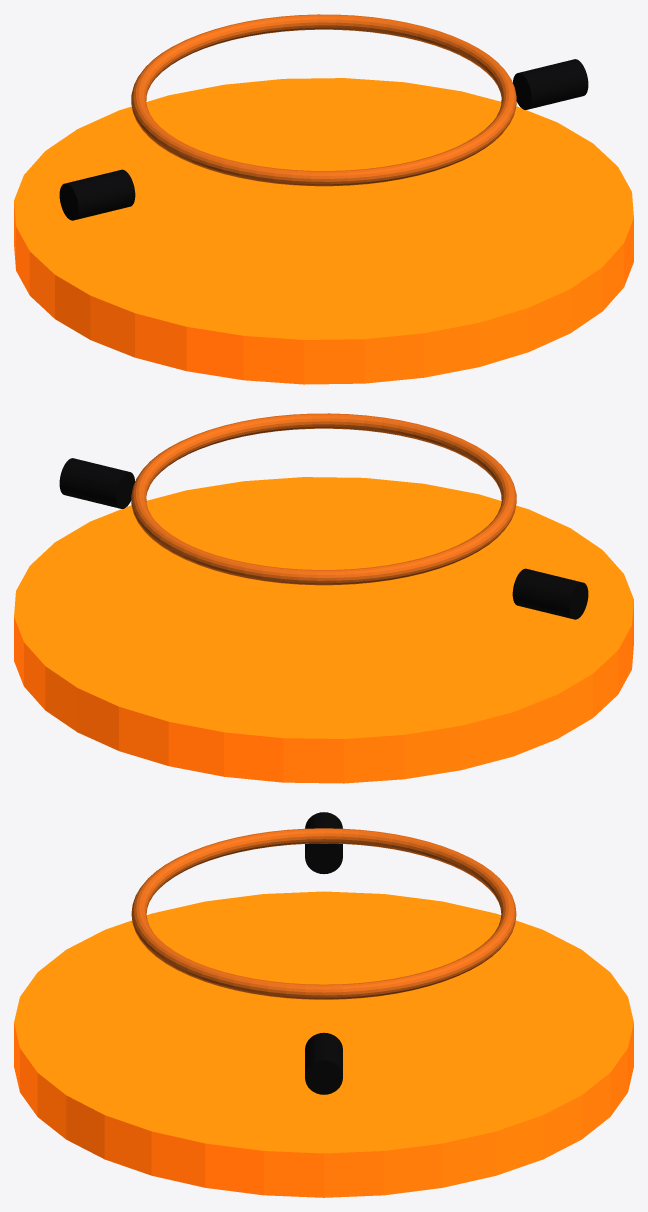
File: fitness_jump_rope.dae
3 views of the same model, one above another, from view 1: azimuth 30°, elevation 25°; view 2: azimuth 150°, elevation 25°; view 3: azimuth 270°, elevation 25° (orthographic).
Parts seen in each view (by area): view 1: 02_18_Popular_Fitness_Jump_Rope_ROOT_base, 02_18_Popular_Fitness_Jump_Rope_part_01, 02_18_Popular_Fitness_Jump_Rope_part_02, 02_18_Popular_Fitness_Jump_Rope_part_03; view 2: 02_18_Popular_Fitness_Jump_Rope_ROOT_base, 02_18_Popular_Fitness_Jump_Rope_part_01, 02_18_Popular_Fitness_Jump_Rope_part_02, 02_18_Popular_Fitness_Jump_Rope_part_03; view 3: 02_18_Popular_Fitness_Jump_Rope_ROOT_base, 02_18_Popular_Fitness_Jump_Rope_part_01, 02_18_Popular_Fitness_Jump_Rope_part_03, 02_18_Popular_Fitness_Jump_Rope_part_02.
Part boxes in pixels (x1,y1,x2,y2): 02_18_Popular_Fitness_Jump_Rope_ROOT_base: (14, 78, 633, 384); 02_18_Popular_Fitness_Jump_Rope_part_01: (131, 14, 516, 186); 02_18_Popular_Fitness_Jump_Rope_part_02: (59, 169, 135, 220); 02_18_Popular_Fitness_Jump_Rope_part_03: (513, 59, 588, 109); 02_18_Popular_Fitness_Jump_Rope_ROOT_base: (14, 477, 633, 783); 02_18_Popular_Fitness_Jump_Rope_part_01: (131, 413, 516, 585); 02_18_Popular_Fitness_Jump_Rope_part_02: (512, 568, 588, 619); 02_18_Popular_Fitness_Jump_Rope_part_03: (59, 458, 134, 508); 02_18_Popular_Fitness_Jump_Rope_ROOT_base: (14, 891, 633, 1197); 02_18_Popular_Fitness_Jump_Rope_part_01: (131, 828, 516, 999); 02_18_Popular_Fitness_Jump_Rope_part_03: (305, 1032, 342, 1094); 02_18_Popular_Fitness_Jump_Rope_part_02: (305, 812, 342, 873).
Size of the model in its own units: 0.76 by 0.216 by 0.76.
